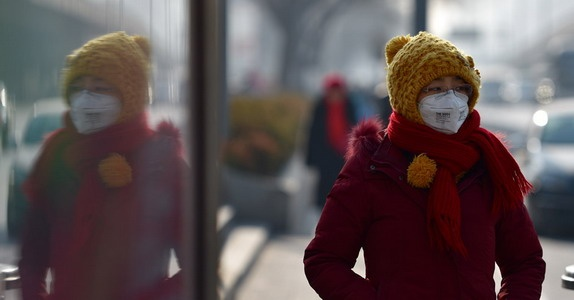Mask: (410, 72, 474, 135)
